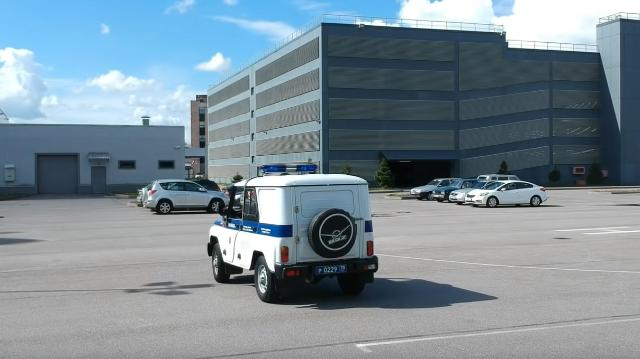non emergency car: (142, 176, 235, 216), (462, 179, 550, 209), (433, 178, 483, 204), (450, 178, 496, 206), (411, 175, 452, 203)
police car: (204, 161, 380, 309)
